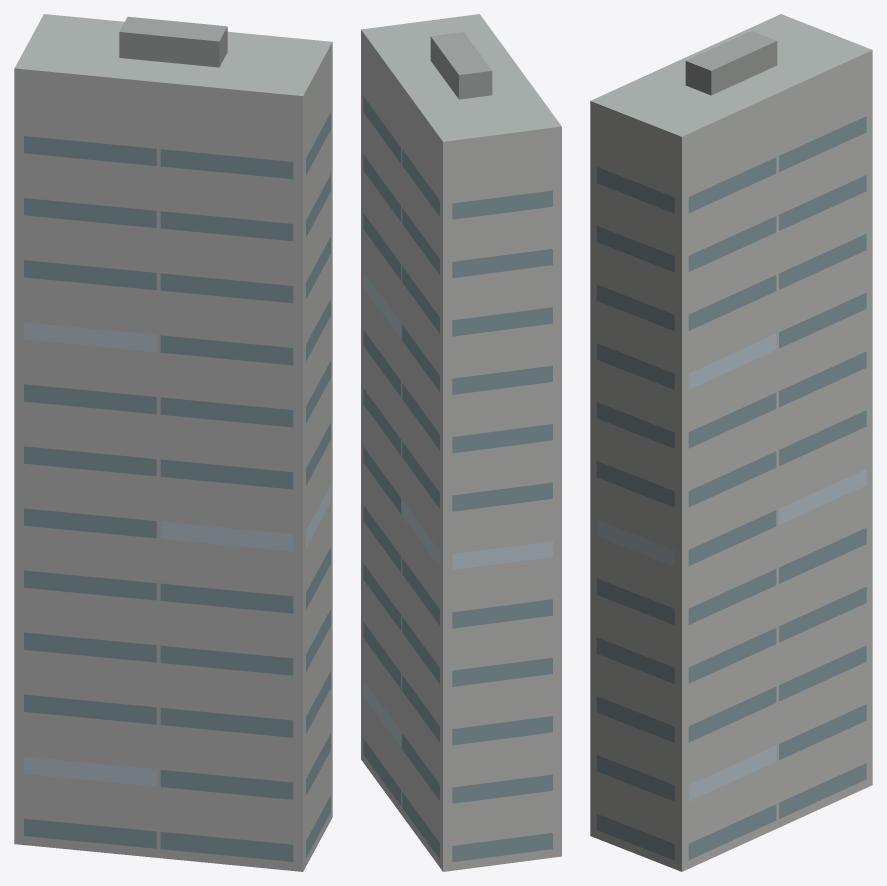
File: fallback-dmc-parkview-xi-extension-122.glb
The picture shows the model from 3 angles, left to right: view 1: azimuth 30°, elevation 25°; view 2: azimuth 150°, elevation 25°; view 3: azimuth 270°, elevation 25°; orthographic projection. The views are drawn at different scales.
Visible parts, largest first — view 1: fallback-dmc-parkview-xi-extension-122; view 2: fallback-dmc-parkview-xi-extension-122; view 3: fallback-dmc-parkview-xi-extension-122.
Boxes of the visible parts, left/top/right/bottom form: fallback-dmc-parkview-xi-extension-122: left=14, top=14, right=332, bottom=871; fallback-dmc-parkview-xi-extension-122: left=361, top=14, right=561, bottom=871; fallback-dmc-parkview-xi-extension-122: left=590, top=14, right=872, bottom=871.
Size of the model in its own units: 25.67 by 74 by 24.94.
